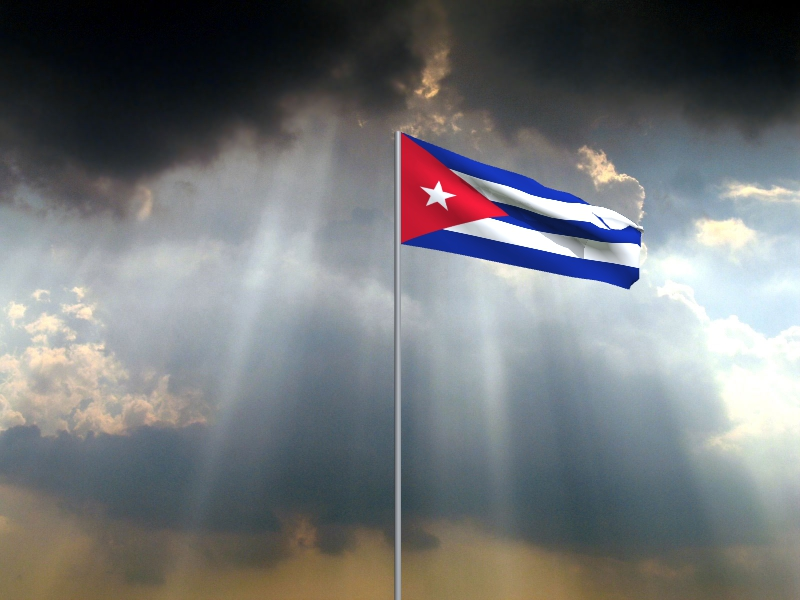cu: (402, 133, 646, 292)
